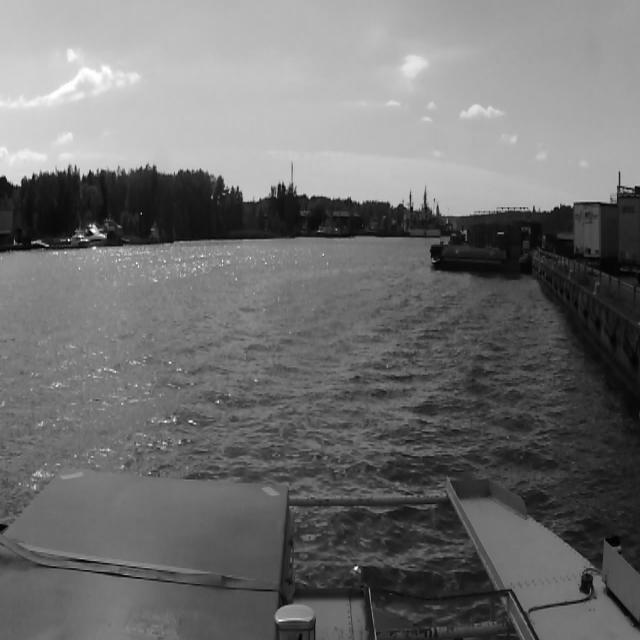ship: (81, 220, 112, 250), (65, 228, 95, 250)
